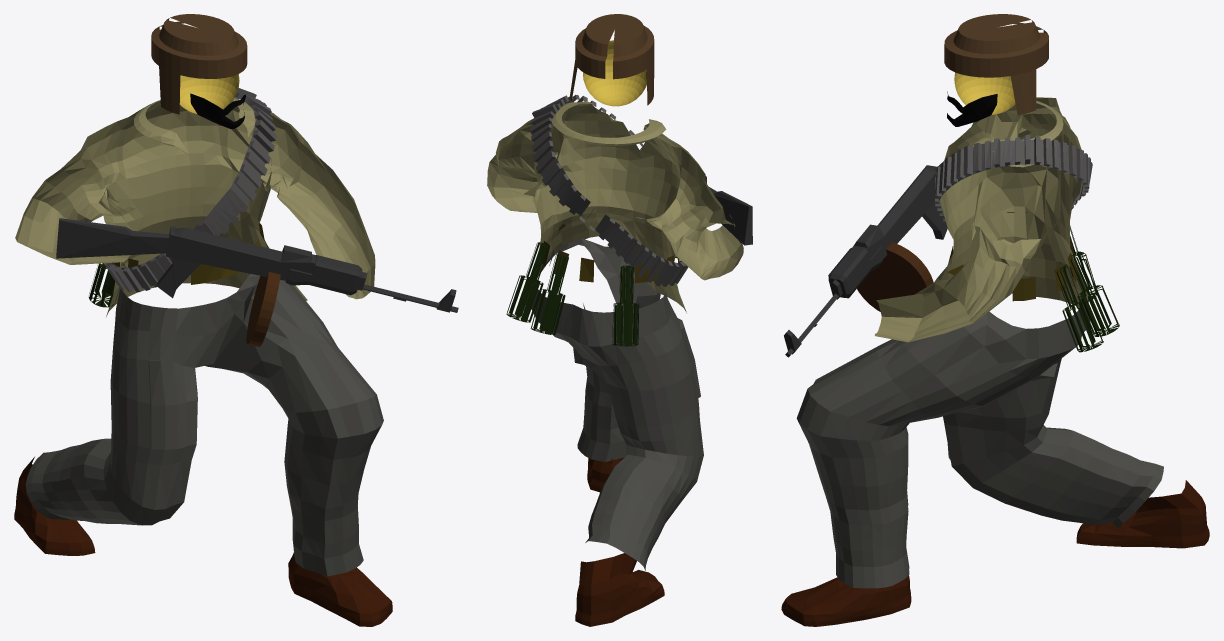
File: Partisan.glb
3 renders of one model, left to right at view 1: azimuth 30°, elevation 25°; view 2: azimuth 150°, elevation 25°; view 3: azimuth 270°, elevation 25°, orthographic. The views are drawn at different scales.
Visible parts, largest first — view 1: pants_Circle.002; view 2: pants_Circle.002; view 3: pants_Circle.002.
Part boxes in pixels (bbox=[...]): pants_Circle.002: bbox=[14, 14, 458, 626]; pants_Circle.002: bbox=[487, 14, 752, 626]; pants_Circle.002: bbox=[781, 14, 1209, 626].
Bounding box in the file's own units: 1.18 × 1.93 × 1.37.
